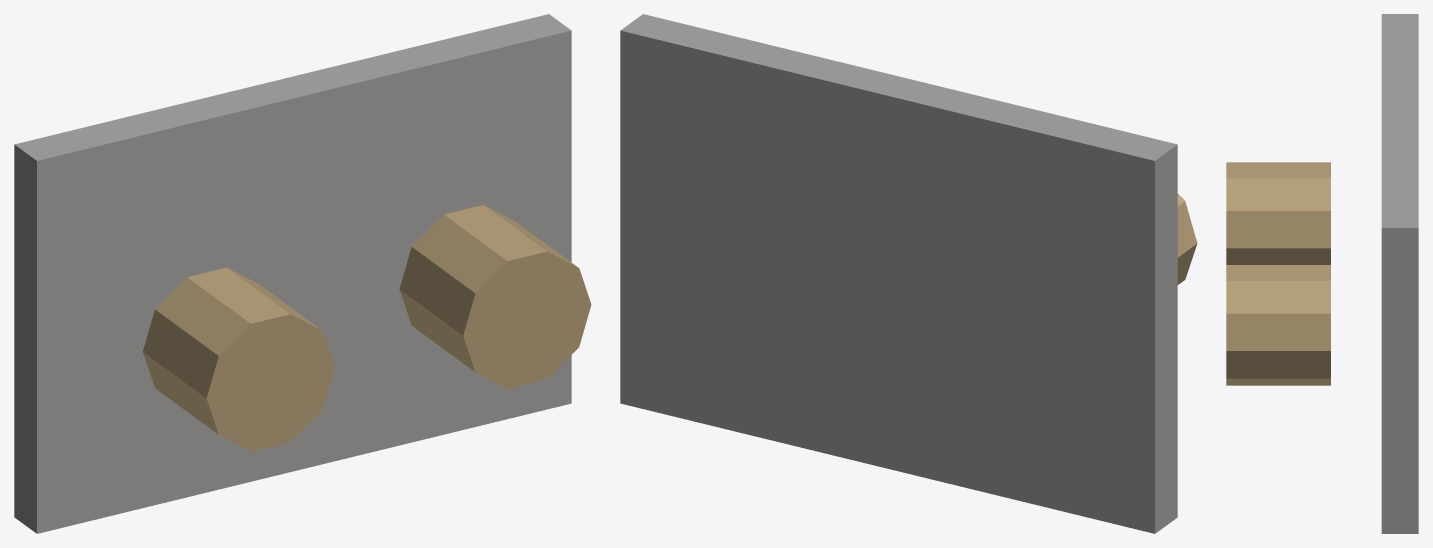
The picture shows the model from 3 angles, left to right: view 1: azimuth 30°, elevation 25°; view 2: azimuth 150°, elevation 25°; view 3: azimuth 270°, elevation 25°; orthographic projection. The views are drawn at different scales.
Parts seen in each view (by area): view 1: H07_part_0, H07_part_1, H07_part_2; view 2: H07_part_0, H07_part_1; view 3: H07_part_0, H07_part_2, H07_part_1.
Part boxes in pixels (x1,y1,x2,y2): H07_part_0: (14,14,571,533); H07_part_1: (143,267,334,451); H07_part_2: (399,205,591,388); H07_part_0: (620,14,1177,533); H07_part_1: (1177,193,1197,284); H07_part_0: (1381,14,1418,533); H07_part_2: (1226,265,1330,385); H07_part_1: (1226,162,1330,264).
Size of the model in its own units: 1.5 by 1 by 0.57.
